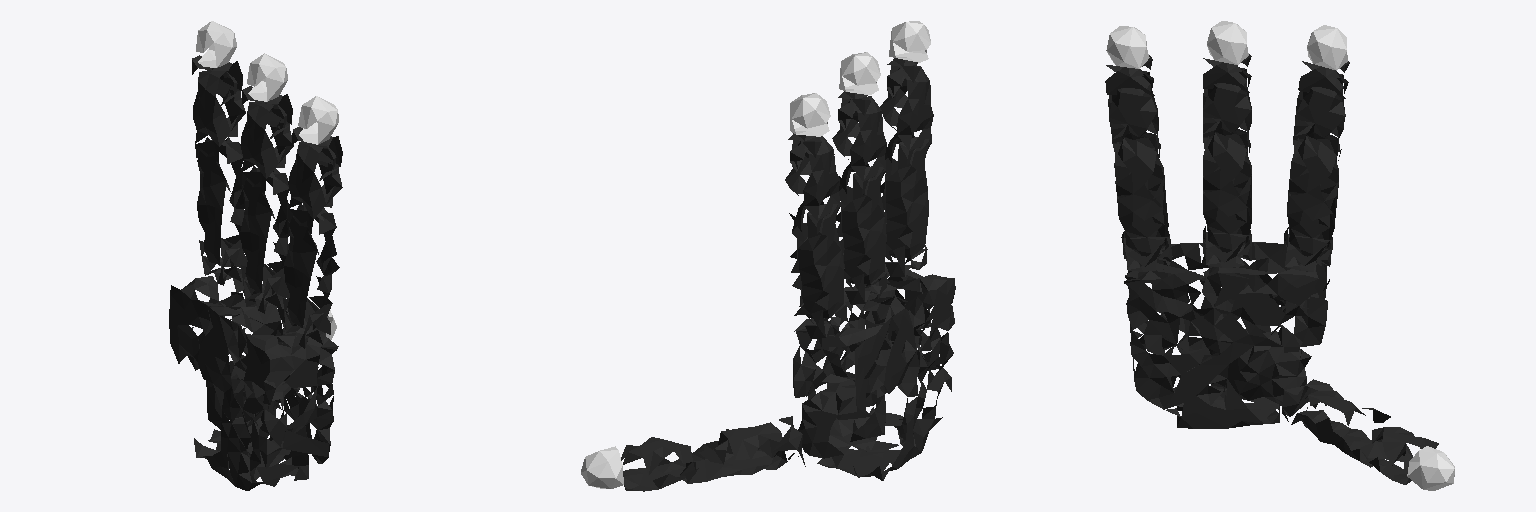
URDF robot description (allegro_hand_right):
<?xml version="1.0" ?>
<!-- =================================================================================== -->
<!-- |    This document was autogenerated by xacro from allegro_hand_description_right.xacro | -->
<!-- |    EDITING THIS FILE BY HAND IS NOT RECOMMENDED                                 | -->
<!-- =================================================================================== -->
<robot name="allegro_hand_right" xmlns:xacro="http://www.ros.org/wiki/xacro">
  <!--
rosrun xacro xacro.py allegro_hand_description_right.urdf.xacro > allegro_hand_description_right.urdf
roslaunch launchers/fuerte/allegro_hand_jgui_right_virtual.launch 
-->
  <!-- ======================== BASE PARAMS ========================= -->
  <!-- ======================== FINGER PARAMS ======================== -->
  <!-- full height from joint to tip. when used,
the radius of the finger tip sphere will be subtracted
and one fixed link will be added for the tip. -->
  <!--0.0435,   0.044981-->
  <!--0.002298-->
  <!--0.002298-->
  <!-- ========================= THUMB PARAMS ========================= -->
  <!-- ========================= LIMITS ========================= -->
  <!-- ============================================================================= -->
  <!-- ============================================================================= -->
  <!-- ============================================================================= -->
  <!-- BASE -->
  <link name="base_link">
    <visual>
      <geometry>
        <mesh filename="meshes/base_link_contacts.STL"/>
      </geometry>
      <!-- LEFT -->
      <!-- <origin rpy="${-90*DEG2RAD} 0 0" xyz="0 0 0 "/> -->
      <!-- RIGHT -->
      <origin rpy="0 0 0" xyz="0 0 0 "/>
      <material name="black">
        <color rgba="0.2 0.2 0.2 1"/>
      </material>
    </visual>
    <inertial>
      <mass value="0.41540000"/>
      <inertia ixx="2.3161e-7" ixy="-2.7805e-10" ixz="1.4202e-9" iyy="1.4231e-7" iyz="-8.8101e-9" izz="1.2820e-7"/>
      <origin xyz="-0.00952503 0.00046095 -0.03822657"/>
    </inertial>
    <collision>
      <geometry>
        <mesh filename="meshes/base_link_contacts.STL"/>
      </geometry>
      <!-- LEFT -->
      <!-- <origin rpy="${-90*DEG2RAD} 0 0" xyz="0 0 0 "/> -->
      <!-- RIGHT -->
      <origin rpy="0 0 0" xyz="0 0 0 "/>
    </collision>
  </link>
  <!-- ============================================================================= -->
  <!-- FINGERS -->
  <!-- RIGHT HAND due to which finger is number 0 -->
  <!-- for LEFT HAND switch the sign of the **offset_origin_y** and **finger_angle_r** parameters-->
  <link name="link_0">
    <visual>
      <geometry>
        <mesh filename="meshes/link_0.0_contacts.STL"/>
      </geometry>
      <material name="black"/>
    </visual>
    <inertial>
      <mass value="0.01190000"/>
      <inertia ixx="4.3968e-10" ixy="4.8612e-13" ixz="1.6056e-11" iyy="2.1654e-10" iyz="-5.7592e-12" izz="4.2916e-10"/>
      <origin xyz="-0.00047307 0.00024005 0.00596328"/>
    </inertial>
    <collision>
      <geometry>
        <mesh filename="meshes/link_0.0_contacts.STL"/>
      </geometry>
    </collision>
  </link>
  <joint name="joint_0" type="revolute">
    <axis xyz="0 0 1"/>
    <limit effort="0" lower="-0.47" upper="0.47" velocity="0"/>
    <parent link="base_link"/>
    <child link="link_0"/>
    <origin rpy="-0.08726646255 0 0" xyz="0 0.0435 -0.001542"/>
  </joint>
  <link name="link_1">
    <visual>
      <geometry>
        <mesh filename="meshes/link_1.0_contacts.STL"/>
      </geometry>
      <material name="black"/>
    </visual>
    <inertial>
      <mass value="0.06500000"/>
      <inertia ixx="1.5917e-8" ixy="6.0500e-19" ixz="-1.9640e-18" iyy="1.5037e-8" iyz="-4.3180e-14" izz="3.1035e-9"/>
      <origin xyz="0.00000000 -0.00003069 0.02699990"/>
    </inertial>
    <collision>
      <geometry>
        <mesh filename="meshes/link_1.0_contacts.STL"/>
      </geometry>
    </collision>
  </link>
  <joint name="joint_1" type="revolute">
    <limit effort="0" lower="-0.196" upper="1.61" velocity="0"/>
    <axis xyz="0 1 0"/>
    <parent link="link_0"/>
    <child link="link_1"/>
    <origin xyz="0 0 0.0164"/>
  </joint>
  <link name="link_2">
    <visual>
      <geometry>
        <mesh filename="meshes/link_2.0_contacts.STL"/>
      </geometry>
      <material name="black"/>
    </visual>
    <inertial>
      <mass value="0.03550000"/>
      <inertia ixx="8.2002e-9" ixy="-4.2376e-11" ixz="-2.5993e-11" iyy="5.9630e-9" iyz="-5.2249e-10" izz="4.1430e-9"/>
      <origin xyz="-0.00014855 -0.00162236 0.02492425"/>
    </inertial>
    <collision>
      <geometry>
        <mesh filename="meshes/link_2.0_contacts.STL"/>
      </geometry>
    </collision>
  </link>
  <joint name="joint_2" type="revolute">
    <axis xyz="0 1 0"/>
    <limit effort="0" lower="-0.174" upper="1.709" velocity="0"/>
    <parent link="link_1"/>
    <child link="link_2"/>
    <origin xyz="0 0 0.054"/>
  </joint>
  <link name="link_3">
    <visual>
      <geometry>
        <mesh filename="meshes/link_3.0_contacts.STL"/>
      </geometry>
      <material name="black"/>
    </visual>
    <inertial>
      <mass value="0.00480000"/>
      <inertia ixx="4.5827e-10" ixy="4.7378e-13" ixz="-1.2806e-11" iyy="2.2769e-10" iyz="2.9649e-12" izz="4.4562e-10"/>
      <origin xyz="-0.00030124 -0.00009704 0.00976183"/>
    </inertial>
    <collision>
      <geometry>
        <mesh filename="meshes/link_3.0_contacts.STL"/>
      </geometry>
    </collision>
  </link>
  <joint name="joint_3" type="revolute">
    <axis xyz="0 1 0"/>
    <limit effort="0" lower="-0.227" upper="1.618" velocity="0"/>
    <parent link="link_2"/>
    <child link="link_3"/>
    <origin xyz="0 0 0.0384"/>
  </joint>
  <link name="link_3_tip">
    <visual>
      <geometry>
        <mesh filename="meshes/link_3.0_tip_contacts.STL"/>
      </geometry>
      <material name="white">
        <color rgba=".9 .9 .9 1"/>
      </material>
    </visual>
    <inertial>
      <mass value="0.00480000"/>
      <inertia ixx="7.6421e-10" ixy="-4.3347e-14" ixz="2.0810e-12" iyy="7.6149e-10" iyz="-4.4079e-13" izz="7.8814e-10"/>
      <origin xyz="-0.00003235 -0.00001387 -0.00235156"/>
    </inertial>
    <collision>
      <geometry>
        <mesh filename="meshes/link_3.0_tip_contacts.STL"/>
      </geometry>
    </collision>
  </link>
  <joint name="joint_3_tip" type="fixed">
    <parent link="link_3"/>
    <child link="link_3_tip"/>
    <origin rpy="0 0 0" xyz="0 0 0.0267"/>
  </joint>
  <link name="link_4">
    <visual>
      <geometry>
        <mesh filename="meshes/link_0.0_contacts.STL"/>
      </geometry>
      <material name="black"/>
    </visual>
    <inertial>
      <mass value="0.01190000"/>
      <inertia ixx="4.3968e-10" ixy="4.8612e-13" ixz="1.6056e-11" iyy="2.1654e-10" iyz="-5.7592e-12" izz="4.2916e-10"/>
      <origin xyz="-0.00047307 0.00024005 0.00596328"/>
    </inertial>
    <collision>
      <geometry>
        <mesh filename="meshes/link_0.0_contacts.STL"/>
      </geometry>
    </collision>
  </link>
  <joint name="joint_4" type="revolute">
    <axis xyz="0 0 1"/>
    <limit effort="0" lower="-0.47" upper="0.47" velocity="0"/>
    <parent link="base_link"/>
    <child link="link_4"/>
    <origin rpy="0.0 0 0" xyz="0 0 0.0007"/>
  </joint>
  <link name="link_5">
    <visual>
      <geometry>
        <mesh filename="meshes/link_1.0_contacts.STL"/>
      </geometry>
      <material name="black"/>
    </visual>
    <inertial>
      <mass value="0.06500000"/>
      <inertia ixx="1.5917e-8" ixy="6.0500e-19" ixz="-1.9640e-18" iyy="1.5037e-8" iyz="-4.3180e-14" izz="3.1035e-9"/>
      <origin xyz="0.00000000 -0.00003069 0.02699990"/>
    </inertial>
    <collision>
      <geometry>
        <mesh filename="meshes/link_1.0_contacts.STL"/>
      </geometry>
    </collision>
  </link>
  <joint name="joint_5" type="revolute">
    <limit effort="0" lower="-0.196" upper="1.61" velocity="0"/>
    <axis xyz="0 1 0"/>
    <parent link="link_4"/>
    <child link="link_5"/>
    <origin xyz="0 0 0.0164"/>
  </joint>
  <link name="link_6">
    <visual>
      <geometry>
        <mesh filename="meshes/link_2.0_contacts.STL"/>
      </geometry>
      <material name="black"/>
    </visual>
    <inertial>
      <mass value="0.03550000"/>
      <inertia ixx="8.2002e-9" ixy="-4.2376e-11" ixz="-2.5993e-11" iyy="5.9630e-9" iyz="-5.2249e-10" izz="4.1430e-9"/>
      <origin xyz="-0.00014855 -0.00162236 0.02492425"/>
    </inertial>
    <collision>
      <geometry>
        <mesh filename="meshes/link_2.0_contacts.STL"/>
      </geometry>
    </collision>
  </link>
  <joint name="joint_6" type="revolute">
    <axis xyz="0 1 0"/>
    <limit effort="0" lower="-0.174" upper="1.709" velocity="0"/>
    <parent link="link_5"/>
    <child link="link_6"/>
    <origin xyz="0 0 0.054"/>
  </joint>
  <link name="link_7">
    <visual>
      <geometry>
        <mesh filename="meshes/link_3.0_contacts.STL"/>
      </geometry>
      <material name="black"/>
    </visual>
    <inertial>
      <mass value="0.00480000"/>
      <inertia ixx="4.5827e-10" ixy="4.7378e-13" ixz="-1.2806e-11" iyy="2.2769e-10" iyz="2.9649e-12" izz="4.4562e-10"/>
      <origin xyz="-0.00030124 -0.00009704 0.00976183"/>
    </inertial>
    <collision>
      <geometry>
        <mesh filename="meshes/link_3.0_contacts.STL"/>
      </geometry>
    </collision>
  </link>
  <joint name="joint_7" type="revolute">
    <axis xyz="0 1 0"/>
    <limit effort="0" lower="-0.227" upper="1.618" velocity="0"/>
    <parent link="link_6"/>
    <child link="link_7"/>
    <origin xyz="0 0 0.0384"/>
  </joint>
  <link name="link_7_tip">
    <visual>
      <geometry>
        <mesh filename="meshes/link_3.0_tip_contacts.STL"/>
      </geometry>
      <material name="white">
        <color rgba=".9 .9 .9 1"/>
      </material>
    </visual>
    <inertial>
      <mass value="0.00480000"/>
      <inertia ixx="7.6421e-10" ixy="-4.3347e-14" ixz="2.0810e-12" iyy="7.6149e-10" iyz="-4.4079e-13" izz="7.8814e-10"/>
      <origin xyz="-0.00003235 -0.00001387 -0.00235156"/>
    </inertial>
    <collision>
      <geometry>
        <mesh filename="meshes/link_3.0_tip_contacts.STL"/>
      </geometry>
    </collision>
  </link>
  <joint name="joint_7_tip" type="fixed">
    <parent link="link_7"/>
    <child link="link_7_tip"/>
    <origin rpy="0 0 0" xyz="0 0 0.0267"/>
  </joint>
  <link name="link_8">
    <visual>
      <geometry>
        <mesh filename="meshes/link_0.0_contacts.STL"/>
      </geometry>
      <material name="black"/>
    </visual>
    <inertial>
      <mass value="0.01190000"/>
      <inertia ixx="4.3968e-10" ixy="4.8612e-13" ixz="1.6056e-11" iyy="2.1654e-10" iyz="-5.7592e-12" izz="4.2916e-10"/>
      <origin xyz="-0.00047307 0.00024005 0.00596328"/>
    </inertial>
    <collision>
      <geometry>
        <mesh filename="meshes/link_0.0_contacts.STL"/>
      </geometry>
    </collision>
  </link>
  <joint name="joint_8" type="revolute">
    <axis xyz="0 0 1"/>
    <limit effort="0" lower="-0.47" upper="0.47" velocity="0"/>
    <parent link="base_link"/>
    <child link="link_8"/>
    <origin rpy="0.08726646255 0 0" xyz="0 -0.0435 -0.001542"/>
  </joint>
  <link name="link_9">
    <visual>
      <geometry>
        <mesh filename="meshes/link_1.0_contacts.STL"/>
      </geometry>
      <material name="black"/>
    </visual>
    <inertial>
      <mass value="0.06500000"/>
      <inertia ixx="1.5917e-8" ixy="6.0500e-19" ixz="-1.9640e-18" iyy="1.5037e-8" iyz="-4.3180e-14" izz="3.1035e-9"/>
      <origin xyz="0.00000000 -0.00003069 0.02699990"/>
    </inertial>
    <collision>
      <geometry>
        <mesh filename="meshes/link_1.0_contacts.STL"/>
      </geometry>
    </collision>
  </link>
  <joint name="joint_9" type="revolute">
    <limit effort="0" lower="-0.196" upper="1.61" velocity="0"/>
    <axis xyz="0 1 0"/>
    <parent link="link_8"/>
    <child link="link_9"/>
    <origin xyz="0 0 0.0164"/>
  </joint>
  <link name="link_10">
    <visual>
      <geometry>
        <mesh filename="meshes/link_2.0_contacts.STL"/>
      </geometry>
      <material name="black"/>
    </visual>
    <inertial>
      <mass value="0.03550000"/>
      <inertia ixx="8.2002e-9" ixy="-4.2376e-11" ixz="-2.5993e-11" iyy="5.9630e-9" iyz="-5.2249e-10" izz="4.1430e-9"/>
      <origin xyz="-0.00014855 -0.00162236 0.02492425"/>
    </inertial>
    <collision>
      <geometry>
        <mesh filename="meshes/link_2.0_contacts.STL"/>
      </geometry>
    </collision>
  </link>
  <joint name="joint_10" type="revolute">
    <axis xyz="0 1 0"/>
    <limit effort="0" lower="-0.174" upper="1.709" velocity="0"/>
    <parent link="link_9"/>
    <child link="link_10"/>
    <origin xyz="0 0 0.054"/>
  </joint>
  <link name="link_11">
    <visual>
      <geometry>
        <mesh filename="meshes/link_3.0_contacts.STL"/>
      </geometry>
      <material name="black"/>
    </visual>
    <inertial>
      <mass value="0.00480000"/>
      <inertia ixx="4.5827e-10" ixy="4.7378e-13" ixz="-1.2806e-11" iyy="2.2769e-10" iyz="2.9649e-12" izz="4.4562e-10"/>
      <origin xyz="-0.00030124 -0.00009704 0.00976183"/>
    </inertial>
    <collision>
      <geometry>
        <mesh filename="meshes/link_3.0_contacts.STL"/>
      </geometry>
    </collision>
  </link>
  <joint name="joint_11" type="revolute">
    <axis xyz="0 1 0"/>
    <limit effort="0" lower="-0.227" upper="1.618" velocity="0"/>
    <parent link="link_10"/>
    <child link="link_11"/>
    <origin xyz="0 0 0.0384"/>
  </joint>
  <link name="link_11_tip">
    <visual>
      <geometry>
        <mesh filename="meshes/link_3.0_tip_contacts.STL"/>
      </geometry>
      <material name="white">
        <color rgba=".9 .9 .9 1"/>
      </material>
    </visual>
    <inertial>
      <mass value="0.00480000"/>
      <inertia ixx="7.6421e-10" ixy="-4.3347e-14" ixz="2.0810e-12" iyy="7.6149e-10" iyz="-4.4079e-13" izz="7.8814e-10"/>
      <origin xyz="-0.00003235 -0.00001387 -0.00235156"/>
    </inertial>
    <collision>
      <geometry>
        <mesh filename="meshes/link_3.0_tip_contacts.STL"/>
      </geometry>
    </collision>
  </link>
  <joint name="joint_11_tip" type="fixed">
    <parent link="link_11"/>
    <child link="link_11_tip"/>
    <origin rpy="0 0 0" xyz="0 0 0.0267"/>
  </joint>
  <!-- THUMB -->
  <link name="link_12">
    <visual>
      <geometry>
        <!-- RIGHT -->
        <mesh filename="meshes/link_12.0_right_contacts.STL"/>
        <!-- LEFT -->
        <!-- <mesh filename="package://allegro_hand_description/meshes/link_12.0_left_contacts.STL" /> -->
      </geometry>
      <material name="black">
        <color rgba=".2 .2 .2 1"/>
      </material>
    </visual>
    <inertial>
      <mass value="0.01760000"/>
      <inertia ixx="1.1262e-8" ixy="2.1880e-11" ixz="6.8010e-11" iyy="1.2881e-8" iyz="8.2109e-10" izz="8.6929e-9"/>
      <origin xyz="-0.01776469 0.00813654 0.01238897"/>
    </inertial>
    <collision>
      <geometry>
        <!-- RIGHT -->
        <mesh filename="meshes/link_12.0_right_contacts.STL"/>
        <!-- LEFT -->
        <!-- <mesh filename="package://allegro_hand_description/meshes/link_12.0_left_contacts.STL" /> -->
      </geometry>
    </collision>
  </link>
  <joint name="joint_12" type="revolute">
    <axis xyz="-1 0 0"/>
    <limit effort="0" lower="0.263" upper="1.396" velocity="0"/>
    <parent link="base_link"/>
    <child link="link_12"/>
    <origin rpy="0 -1.65806278845 -1.5707963259" xyz="-0.0182 0.019333 -0.045987"/>
  </joint>
  <link name="link_13">
    <visual>
      <geometry>
        <mesh filename="meshes/link_13.0_contacts.STL"/>
      </geometry>
      <material name="black">
        <color rgba=".2 .2 .2 1"/>
      </material>
    </visual>
    <inertial>
      <mass value="0.01190000"/>
      <inertia ixx="4.2936e-10" ixy="4.6684e-13" ixz="1.5446e-11" iyy="2.1002e-10" iyz="-5.2752e-12" izz="4.2118e-10"/>
      <origin xyz="-0.00046728 0.00022601 0.00569165"/>
    </inertial>
    <collision>
      <geometry>
        <mesh filename="meshes/link_13.0_contacts.STL"/>
      </geometry>
    </collision>
  </link>
  <joint name="joint_13" type="revolute">
    <axis xyz="0 0 1"/>
    <limit effort="0" lower="-0.105" upper="1.163" velocity="0"/>
    <parent link="link_12"/>
    <child link="link_13"/>
    <!-- RIGHT -->
    <origin xyz="-0.027 0.005 0.0399"/>
    <!-- LEFT -->
    <!-- <origin xyz="-0.027 -0.005 0.0399"/> -->
  </joint>
  <link name="link_14">
    <visual>
      <geometry>
        <mesh filename="meshes/link_14.0_contacts.STL"/>
      </geometry>
      <material name="black">
		  	</material>
    </visual>
    <inertial>
      <mass value="0.03800000"/>
      <inertia ixx="9.6753e-9" ixy="-2.1032e-12" ixz="2.5746e-11" iyy="7.7582e-9" iyz="2.7432e-10" izz="3.9455e-9"/>
      <origin xyz="-0.00013972 -0.00056652 0.01389734"/>
    </inertial>
    <collision>
      <geometry>
        <mesh filename="meshes/link_14.0_contacts.STL"/>
      </geometry>
    </collision>
  </link>
  <joint name="joint_14" type="revolute">
    <axis xyz="0 1 0"/>
    <limit effort="0" lower="-0.189" upper="1.644" velocity="0"/>
    <parent link="link_13"/>
    <child link="link_14"/>
    <origin xyz="0 0 0.0177"/>
  </joint>
  <link name="link_15">
    <visual>
      <geometry>
        <mesh filename="meshes/link_15.0_contacts.STL"/>
      </geometry>
      <material name="black">
    	</material>
    </visual>
    <inertial>
      <mass value="0.03400000"/>
      <inertia ixx="3.6740e-9" ixy="-2.0110e-18" ixz="1.3500e-19" iyy="3.1686e-9" iyz="5.0312e-12" izz="1.7628e-9"/>
      <origin xyz="0.00000000 0.00006711 0.01212869"/>
    </inertial>
    <collision>
      <geometry>
        <mesh filename="meshes/link_15.0_contacts.STL"/>
      </geometry>
    </collision>
  </link>
  <joint name="joint_15" type="revolute">
    <axis xyz="0 1 0"/>
    <limit effort="0" lower="-0.162" upper="1.719" velocity="0"/>
    <parent link="link_14"/>
    <child link="link_15"/>
    <origin xyz="0 0 0.0514"/>
  </joint>
  <link name="link_15_tip">
    <visual>
      <geometry>
        <mesh filename="meshes/link_15.0_tip_contacts.STL"/>
      </geometry>
      <material name="white">
        <color rgba=".9 .9 .9 1"/>
      </material>
    </visual>
    <inertial>
      <mass value="0.00480000"/>
      <inertia ixx="7.6421e-10" ixy="-4.3347e-14" ixz="2.0810e-12" iyy="7.6149e-10" iyz="-4.4079e-13" izz="7.8814e-10"/>
      <origin xyz="-0.00003235 -0.00001387 -0.00235156"/>
    </inertial>
    <collision>
      <geometry>
        <mesh filename="meshes/link_15.0_tip_contacts.STL"/>
      </geometry>
    </collision>
  </link>
  <joint name="joint_15_tip" type="fixed">
    <parent link="link_15"/>
    <child link="link_15_tip"/>
    <origin rpy="0 0 0" xyz="0 0 0.0423"/>
    <!--0.0267000000000005-->
  </joint>
  <!--
<xacro:thumb_left 
	finger_num=			"3" 
	offset_origin_x=	"-0.0182"	
	offset_origin_y=	"-0.019333" 
	offset_origin_z=	"-0.045987" 
	
	
	finger_angle_r=		"${90*DEG2RAD}"
	finger_angle_p=		"-${95*DEG2RAD}"	
	finger_angle_y=		"${90*DEG2RAD}"
/>
-->
  <!-- ============================================================================= -->
  <!-- ============================================================================= -->
  <!-- ============================================================================= -->
  <!-- THUMB MACRO -->
  <!-- END THUMB MACRO -->
  <!-- THREE FINGER MACRO -->
  <!-- [[END]] THREE FINGER MACRO -->
</robot>

--- Facts derived from the render (not from the file) ---
Views: 3 orthographic renders of the robot side by side, from view 1: azimuth 30°, elevation 25°; view 2: azimuth 150°, elevation 25°; view 3: azimuth 270°, elevation 25°.
Robot: allegro_hand_right — 21 links, 20 joints (16 revolute, 4 fixed); root link base_link; default pose: all joints at 0 but 1 set to mid-range because 0 is outside their limits (joint_12 = 0.8295).
Links seen in each view (by area): view 1: base_link, link_9, link_5, link_1, link_2, link_6, link_10, link_11_tip, link_7_tip, link_3_tip, link_12, link_8 (+5 smaller); view 2: base_link, link_12, link_1, link_9, link_5, link_14, link_10, link_15, link_6, link_2, link_3_tip, link_7_tip (+9 smaller); view 3: base_link, link_1, link_5, link_9, link_12, link_14, link_10, link_6, link_2, link_15, link_15_tip, link_3_tip (+9 smaller).
Link boxes in pixels (bbox=[...]): base_link: bbox=[169, 276, 338, 490]; link_9: bbox=[284, 203, 339, 329]; link_5: bbox=[240, 166, 289, 294]; link_1: bbox=[197, 137, 244, 266]; link_2: bbox=[193, 70, 245, 171]; link_6: bbox=[240, 102, 293, 201]; link_10: bbox=[288, 142, 342, 241]; link_11_tip: bbox=[298, 96, 338, 144]; link_7_tip: bbox=[247, 53, 287, 101]; link_3_tip: bbox=[196, 21, 236, 67]; link_12: bbox=[206, 355, 275, 442]; link_8: bbox=[283, 298, 330, 348]; base_link: bbox=[793, 269, 955, 480]; link_12: bbox=[798, 380, 885, 458]; link_1: bbox=[790, 201, 843, 317]; link_9: bbox=[880, 133, 929, 257]; link_5: bbox=[836, 162, 886, 283]; link_14: bbox=[671, 422, 787, 483]; link_10: bbox=[880, 66, 933, 164]; link_15: bbox=[621, 437, 695, 491]; link_6: bbox=[832, 96, 886, 194]; link_2: bbox=[785, 136, 840, 233]; link_3_tip: bbox=[790, 93, 830, 136]; link_7_tip: bbox=[839, 52, 880, 94]; base_link: bbox=[1124, 242, 1329, 428]; link_1: bbox=[1287, 132, 1338, 256]; link_5: bbox=[1203, 129, 1251, 252]; link_9: bbox=[1114, 133, 1168, 256]; link_12: bbox=[1216, 325, 1311, 405]; link_14: bbox=[1298, 391, 1390, 467]; link_10: bbox=[1108, 71, 1160, 157]; link_6: bbox=[1203, 68, 1251, 152]; link_2: bbox=[1293, 74, 1345, 160]; link_15: bbox=[1360, 427, 1438, 484]; link_15_tip: bbox=[1407, 446, 1454, 490]; link_3_tip: bbox=[1307, 25, 1347, 70].
Size in the robot's own frame: 0.1364 by 0.1934 by 0.2419 metres.
21 mesh visuals loaded from 11 distinct referenced files (11 binary STL).